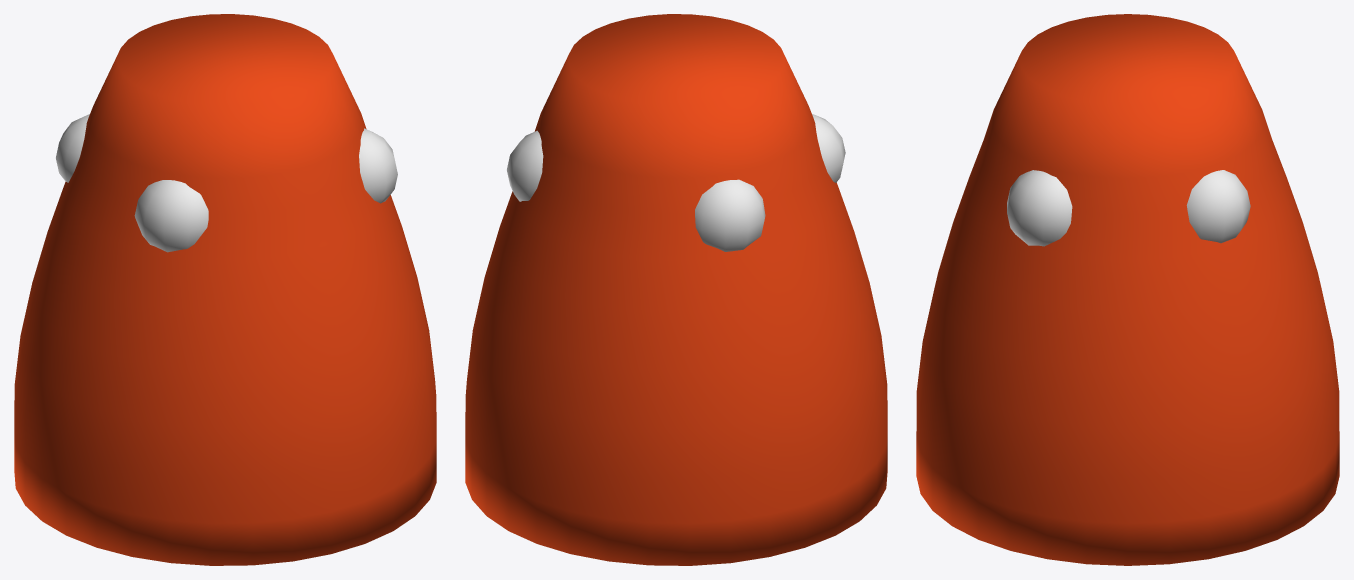
Rendered from badguy.glb.
The picture shows the model from 3 angles, left to right: view 1: azimuth 30°, elevation 25°; view 2: azimuth 150°, elevation 25°; view 3: azimuth 270°, elevation 25°; orthographic projection.
Visible parts, largest first — view 1: Cylinder, Sphere.003; view 2: Cylinder, Sphere.003, Sphere.001; view 3: Cylinder, Sphere.003.
Part boxes in pixels (x1,y1,x2,y2): Cylinder: (14,14,436,565); Sphere.003: (56,114,397,252); Cylinder: (465,14,887,565); Sphere.003: (507,114,845,251); Sphere.001: (695,180,731,251); Cylinder: (916,14,1339,565); Sphere.003: (1007,170,1250,246).
Size of the model in its own units: 2 by 2.17 by 2.
